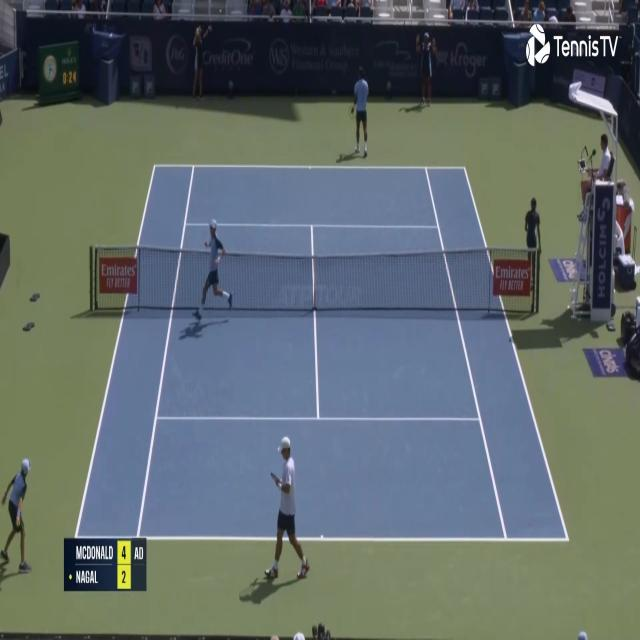tennis-player: (262, 434, 312, 589), (348, 63, 371, 159)
